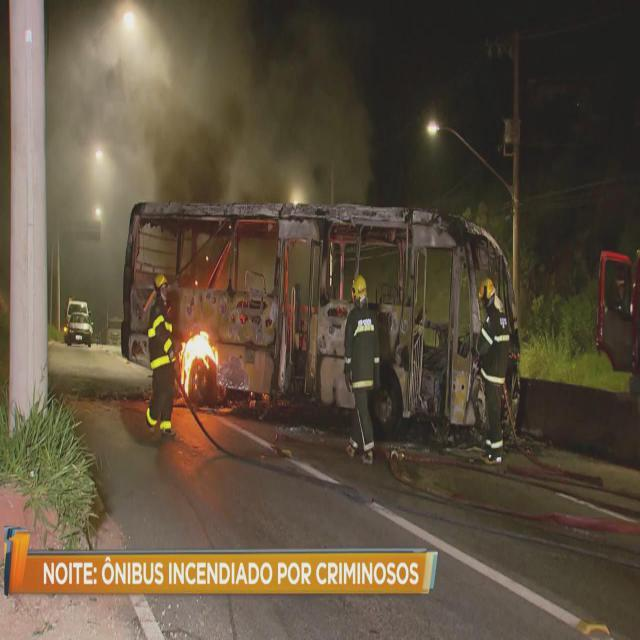Fire: (176, 328, 220, 396)
